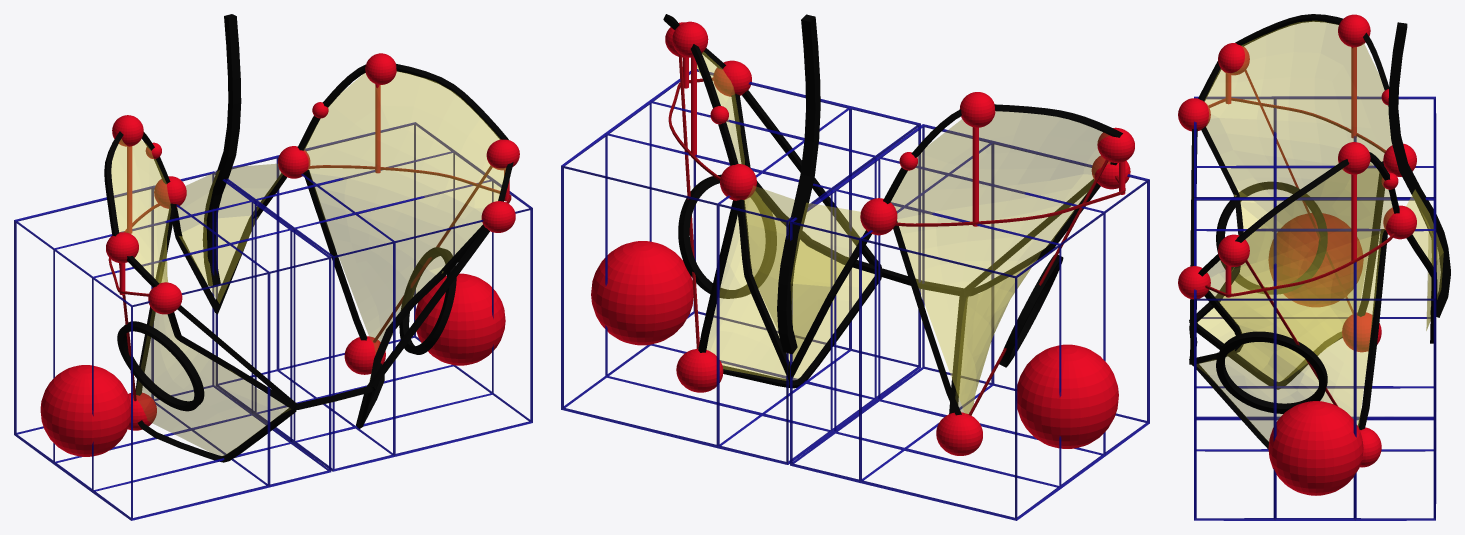
File: Pelvis.glb
The picture shows the model from 3 angles, left to right: view 1: azimuth 30°, elevation 25°; view 2: azimuth 150°, elevation 25°; view 3: azimuth 270°, elevation 25°; orthographic projection. The views are drawn at different scales.
Visible parts, largest first — view 1: Retopo_desirefx_me01.011; view 2: Retopo_desirefx_me01.011; view 3: Retopo_desirefx_me01.011.
Boxes of the visible parts, x1=… form: Retopo_desirefx_me01.011: x1=14, y1=14, x2=532, y2=520; Retopo_desirefx_me01.011: x1=561, y1=14, x2=1149, y2=520; Retopo_desirefx_me01.011: x1=1178, y1=14, x2=1450, y2=520.
Bounding box in the file's own units: 7.1 × 5.8 × 3.6.
